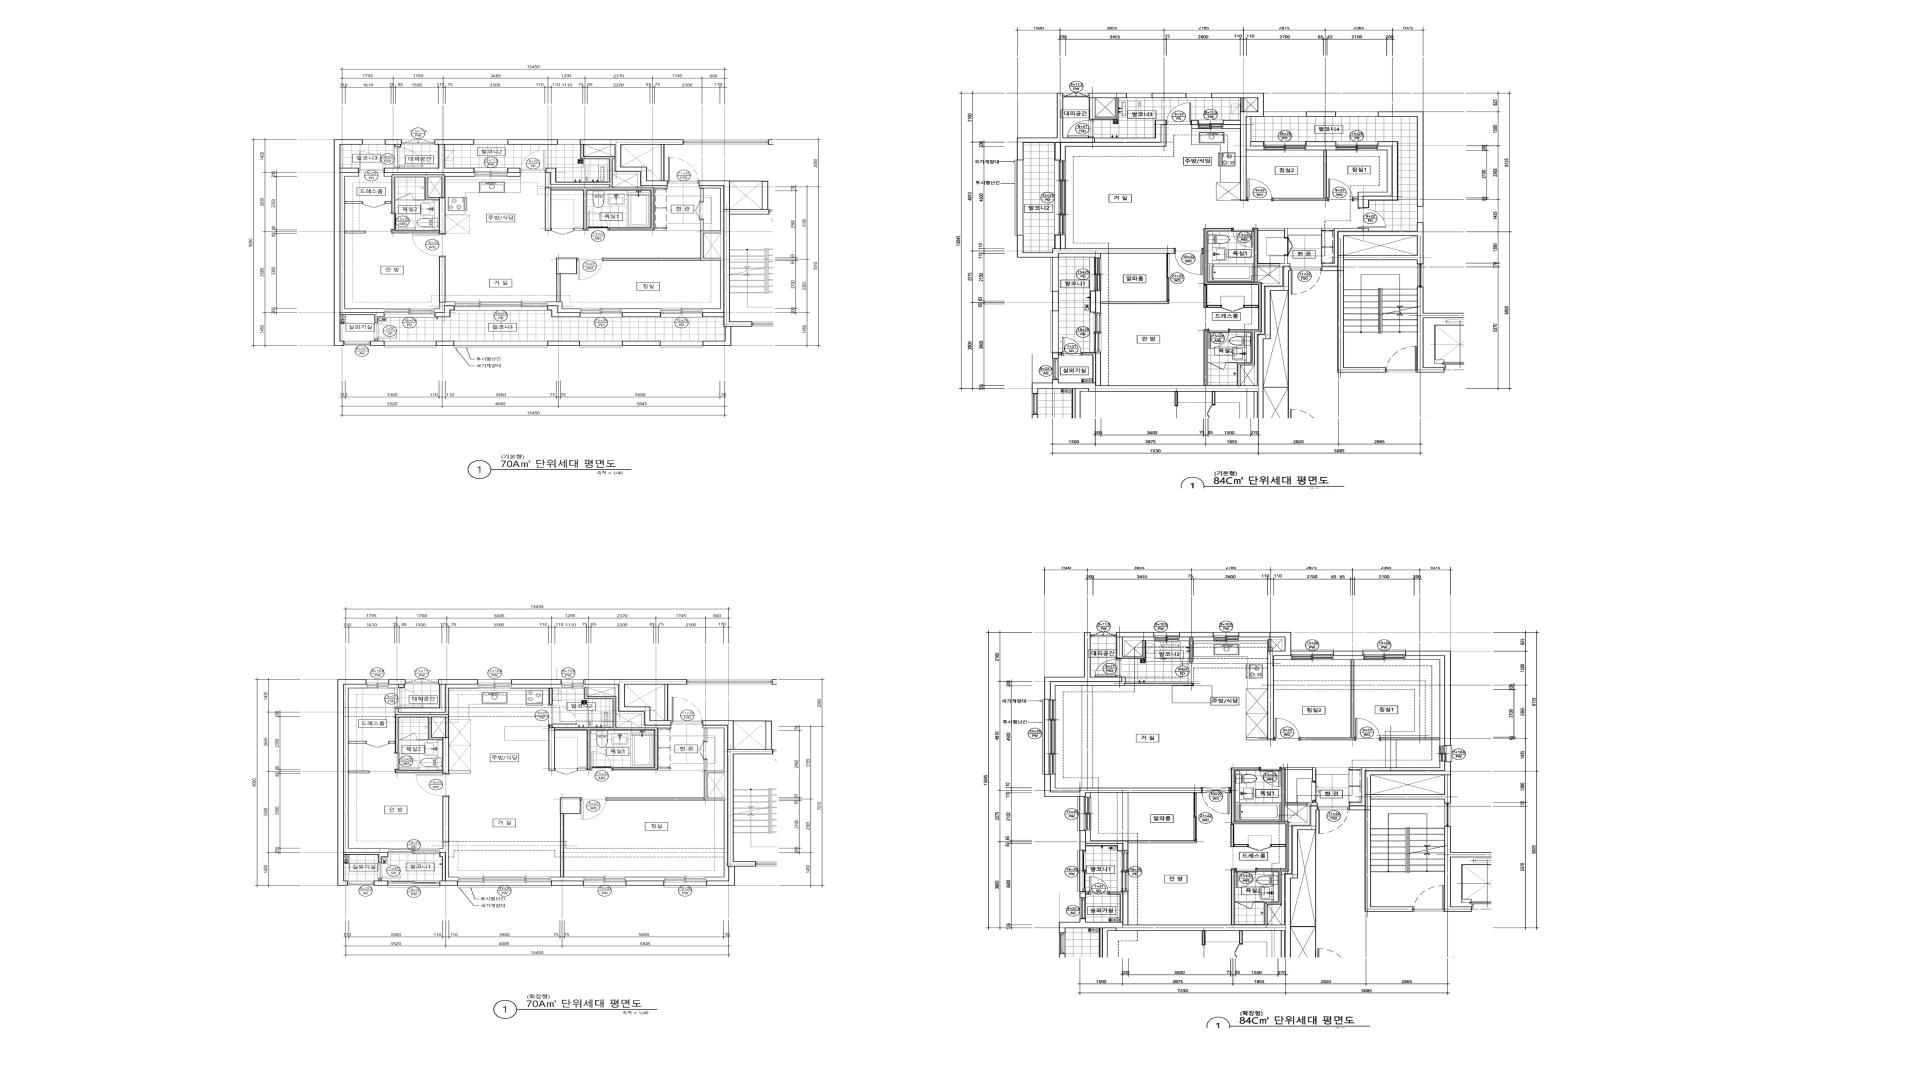door: (1317, 806, 1349, 834), (1290, 267, 1322, 295), (667, 157, 699, 183), (671, 697, 702, 723), (1413, 886, 1444, 912), (416, 773, 449, 797), (1201, 788, 1231, 814), (1174, 249, 1204, 275), (412, 234, 445, 257), (394, 147, 423, 168), (1246, 179, 1273, 201), (1327, 179, 1354, 201), (580, 798, 607, 820), (549, 704, 577, 725), (1274, 718, 1300, 740), (1355, 718, 1381, 740), (577, 258, 603, 280), (520, 150, 546, 172), (1358, 208, 1386, 228), (395, 688, 423, 708), (1166, 103, 1191, 125), (358, 151, 384, 172), (1067, 119, 1094, 138), (1095, 659, 1121, 677), (1232, 228, 1255, 248), (1207, 330, 1230, 349), (590, 751, 613, 770), (1260, 768, 1282, 787), (1235, 869, 1257, 888), (587, 211, 609, 230), (1061, 337, 1082, 356), (392, 213, 415, 230), (1088, 877, 1109, 895), (374, 323, 397, 339), (378, 863, 400, 879), (1208, 362, 1237, 370), (1193, 793, 1197, 841), (1166, 253, 1170, 301), (695, 201, 704, 221), (1284, 236, 1293, 256), (1312, 781, 1320, 803), (1248, 844, 1271, 851), (551, 228, 574, 235), (362, 201, 385, 208), (1221, 305, 1244, 312), (555, 768, 578, 775), (366, 741, 389, 748), (1090, 631, 1116, 637), (395, 193, 413, 201), (399, 733, 417, 741), (699, 742, 707, 760), (1235, 902, 1253, 909)
wall: (1032, 266, 1290, 419), (1059, 805, 1317, 958), (606, 726, 728, 881), (1322, 222, 1424, 373), (1349, 762, 1451, 912), (1204, 228, 1290, 386), (1231, 767, 1317, 925), (703, 720, 773, 886), (699, 181, 769, 346), (337, 679, 388, 886), (334, 140, 384, 346), (1017, 93, 1166, 160), (555, 684, 671, 770), (545, 145, 654, 231), (340, 173, 384, 313), (1211, 93, 1264, 201), (1239, 632, 1291, 740), (1044, 632, 1125, 699), (584, 679, 687, 726), (603, 220, 720, 261), (580, 140, 683, 186), (1300, 660, 1355, 740), (1378, 112, 1424, 207), (1406, 651, 1451, 746), (1444, 826, 1492, 912), (1417, 287, 1464, 373), (1017, 235, 1174, 258), (1044, 775, 1201, 797), (384, 139, 474, 173), (699, 186, 723, 312), (395, 679, 478, 715), (1273, 150, 1327, 201), (1358, 141, 1398, 208), (1263, 291, 1289, 388), (1291, 830, 1316, 927), (389, 715, 449, 753), (551, 814, 583, 881), (391, 175, 445, 213), (613, 159, 667, 188), (1322, 228, 1363, 266), (1371, 775, 1444, 795), (1344, 236, 1417, 255), (1116, 632, 1154, 659), (1080, 831, 1128, 851), (511, 685, 561, 704), (439, 842, 457, 881), (1089, 98, 1118, 120), (439, 852, 457, 886), (1123, 637, 1154, 656), (707, 773, 726, 798), (1109, 892, 1123, 922), (1257, 266, 1280, 284), (1231, 824, 1248, 847), (547, 306, 580, 317), (384, 173, 474, 177), (556, 258, 577, 274), (547, 302, 580, 312), (548, 725, 555, 771), (560, 798, 580, 814), (442, 797, 449, 842), (1179, 632, 1214, 641), (507, 139, 558, 145), (511, 679, 561, 685), (439, 257, 445, 303), (1306, 141, 1336, 150), (1334, 651, 1363, 660), (442, 737, 449, 773), (1090, 291, 1101, 313), (1268, 637, 1285, 651), (587, 688, 616, 696), (1231, 869, 1235, 925), (439, 197, 445, 234), (435, 306, 454, 317), (1128, 840, 1197, 843), (1101, 301, 1169, 304), (622, 312, 661, 317), (626, 881, 664, 886), (1089, 93, 1127, 98), (622, 341, 660, 346), (435, 302, 454, 312), (1381, 737, 1440, 740), (1152, 93, 1186, 98), (1204, 330, 1207, 386), (551, 881, 583, 886), (548, 341, 580, 346), (622, 308, 661, 312), (388, 679, 405, 688), (626, 877, 664, 881), (1306, 112, 1336, 117), (395, 770, 443, 773), (392, 230, 439, 233), (1052, 291, 1059, 311), (1125, 683, 1193, 685), (385, 140, 402, 147), (556, 274, 560, 302), (508, 168, 520, 177), (661, 145, 664, 181), (665, 685, 668, 720), (374, 879, 388, 886), (370, 339, 384, 346), (436, 341, 454, 346), (1190, 637, 1193, 662), (1191, 120, 1198, 129), (1246, 737, 1267, 740), (1240, 98, 1244, 112), (700, 188, 704, 202), (348, 741, 366, 744), (345, 201, 362, 204), (1052, 352, 1059, 359), (345, 231, 366, 233), (449, 771, 470, 773), (349, 771, 369, 773), (1080, 892, 1086, 898), (1349, 767, 1361, 770), (574, 228, 584, 231), (388, 685, 398, 688), (654, 228, 666, 230), (417, 739, 428, 741), (385, 201, 392, 204), (1253, 902, 1265, 903), (413, 200, 424, 201), (1354, 198, 1358, 200), (1059, 352, 1061, 355), (1086, 892, 1088, 894), (730, 181, 762, 181), (734, 721, 766, 721)
window: (1042, 699, 1056, 775), (457, 877, 551, 888), (454, 301, 547, 311), (1054, 160, 1066, 235), (454, 341, 548, 348), (1015, 160, 1023, 235), (1077, 797, 1091, 831), (1363, 649, 1406, 660), (664, 877, 707, 888), (583, 877, 626, 888), (1291, 649, 1334, 660), (384, 308, 435, 317), (1090, 312, 1101, 353), (1077, 850, 1086, 892), (1264, 141, 1306, 150), (1336, 141, 1378, 150), (580, 308, 622, 317), (1090, 257, 1101, 291), (1050, 311, 1059, 352), (661, 308, 702, 317), (388, 881, 440, 888), (384, 341, 436, 348), (1121, 851, 1129, 892), (1050, 258, 1059, 292), (474, 168, 508, 177), (388, 848, 439, 854), (660, 341, 703, 348), (478, 679, 511, 688), (580, 341, 622, 348), (1154, 632, 1179, 641), (1198, 120, 1223, 129), (1214, 632, 1239, 641), (1264, 112, 1306, 117), (1336, 112, 1378, 117), (1439, 746, 1452, 762), (561, 679, 584, 688), (474, 139, 508, 145), (405, 678, 438, 684), (366, 679, 388, 688), (402, 138, 434, 144), (1417, 264, 1424, 287), (1063, 92, 1089, 98), (1052, 359, 1059, 380), (1445, 803, 1451, 826), (558, 139, 580, 145), (344, 341, 370, 346), (348, 881, 374, 886), (1080, 898, 1086, 919), (1127, 93, 1152, 98), (1186, 93, 1211, 98), (363, 140, 385, 145), (1417, 207, 1424, 222)
